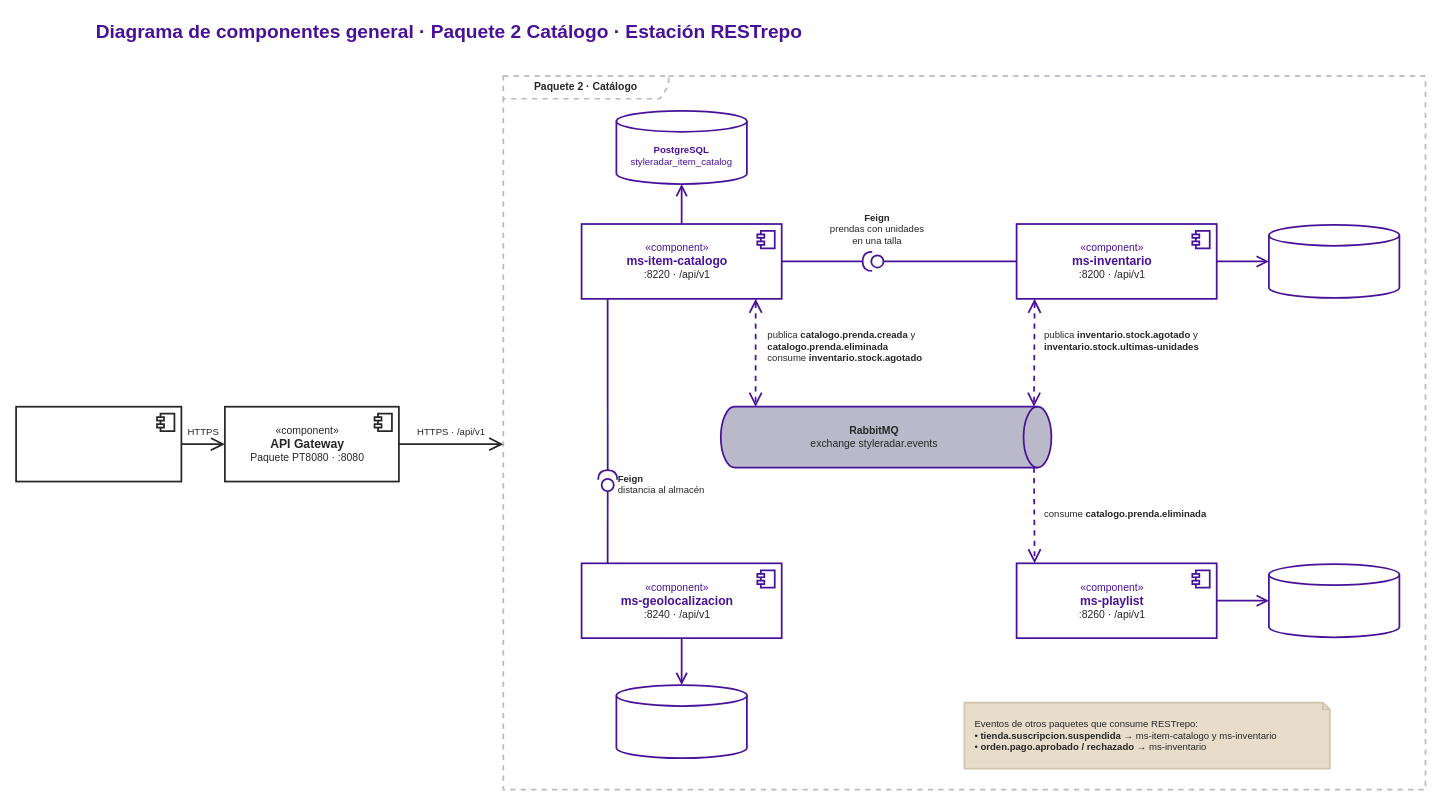
The diagram is 1441 pixels wide and 805 high, and some of its shapes have lost their labels. The centre of each missing label's shape, as x and y in pixels:
"PostgreSQL inventario_db" goes at point (1334, 261).
"PostgreSQL playlist_db" goes at point (1334, 600).
"PostgreSQL styleradar_geolocation" goes at point (681, 721).
"«component» Frontend StyleRadar React" goes at point (98, 443).
